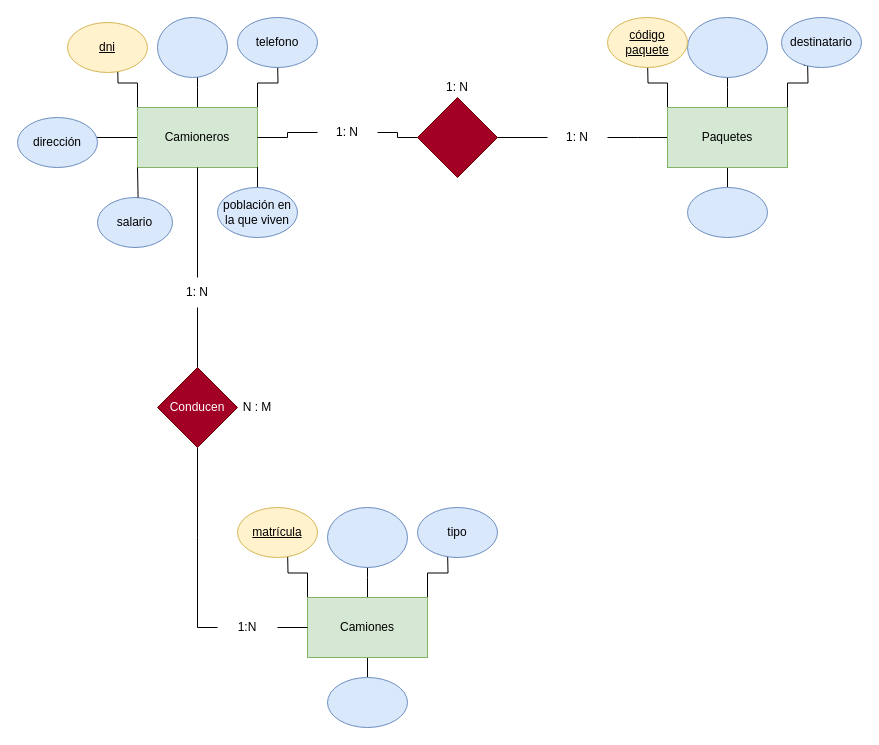
Some shapes in this 879 by 745 pixel diagram are drawn without their labels. Each missing label, with the centre of its shape:
"descripción" belongs at [727,47].
"dirección destinatario" belongs at [727,212].
"modelo" belongs at [367,537].
"nombre" belongs at [192,47].
"potencia" belongs at [367,702].
"transportan" belongs at [457,137].
